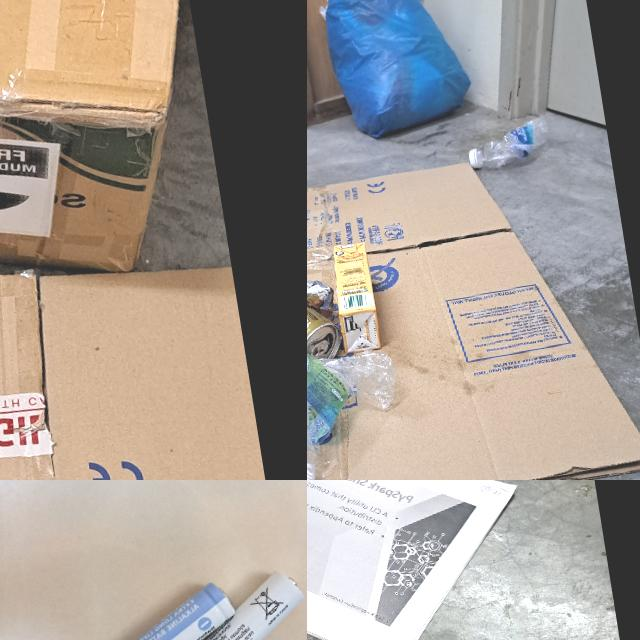aba de lata: (310, 339, 330, 358)
bateria: (145, 565, 307, 640), (63, 579, 250, 640)
caixinha: (330, 242, 382, 353)
garrafa plástica: (307, 342, 407, 466), (472, 114, 555, 170)
lata: (307, 277, 344, 365)
papel: (307, 480, 540, 640)
papelão: (307, 139, 640, 480), (0, 210, 281, 480), (0, 0, 231, 318)
sacola plástica: (317, 0, 477, 143)
tampa plástica: (468, 148, 482, 168)
